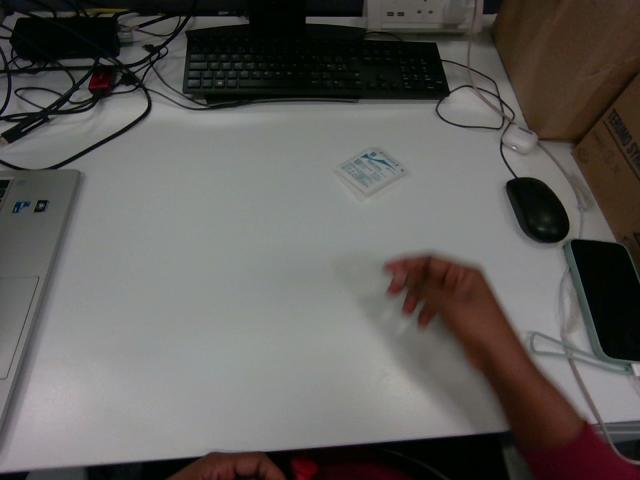gauze: (335, 147, 407, 198)
